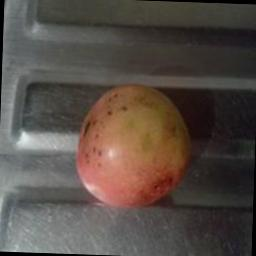Mango Unripe: (64, 81, 196, 207)
